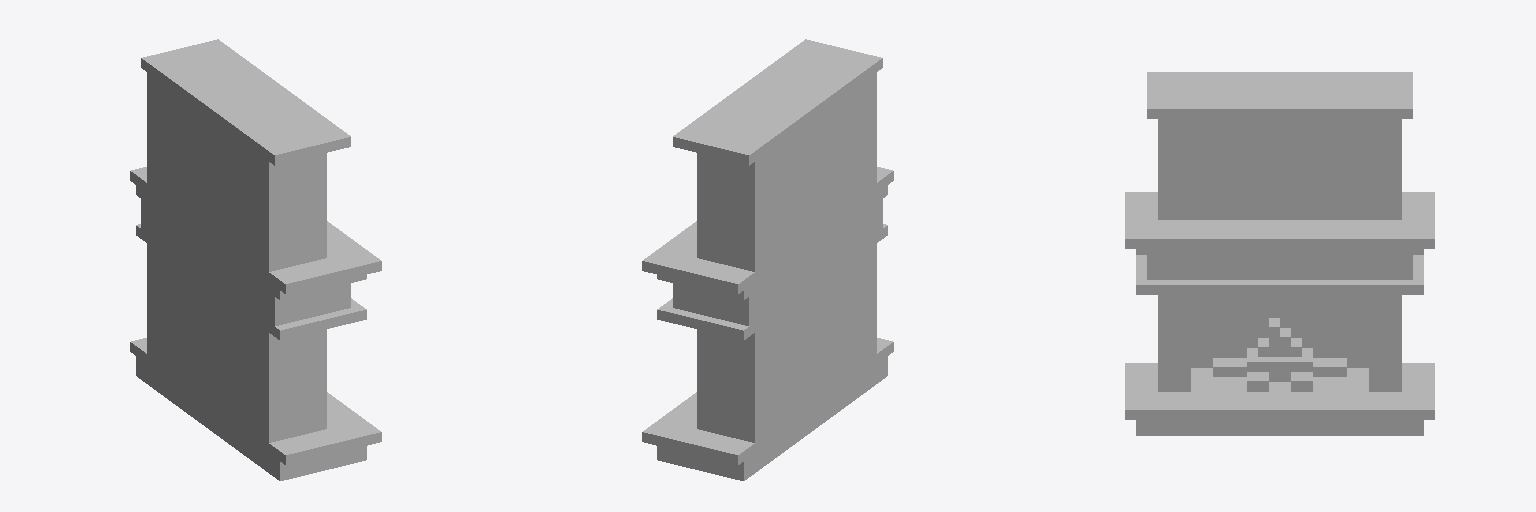
File: FirePlace.obj
3 views of the same model, side by side, from view 1: azimuth 30°, elevation 25°; view 2: azimuth 150°, elevation 25°; view 3: azimuth 270°, elevation 25° (orthographic).
Parts seen in each view (by area): view 1: object 1; view 2: object 1; view 3: object 1.
Boxes of the visible parts, x1=… form: object 1: x1=130, y1=39, x2=381, y2=480; object 1: x1=642, y1=39, x2=893, y2=480; object 1: x1=1125, y1=72, x2=1434, y2=435.
Bounding box in the file's own units: 2 × 6.4 × 5.6.